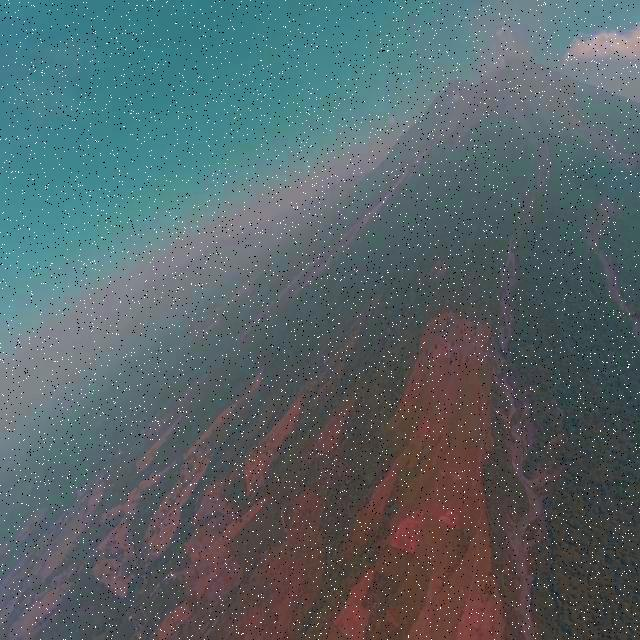Plume: (494, 20, 516, 70)
